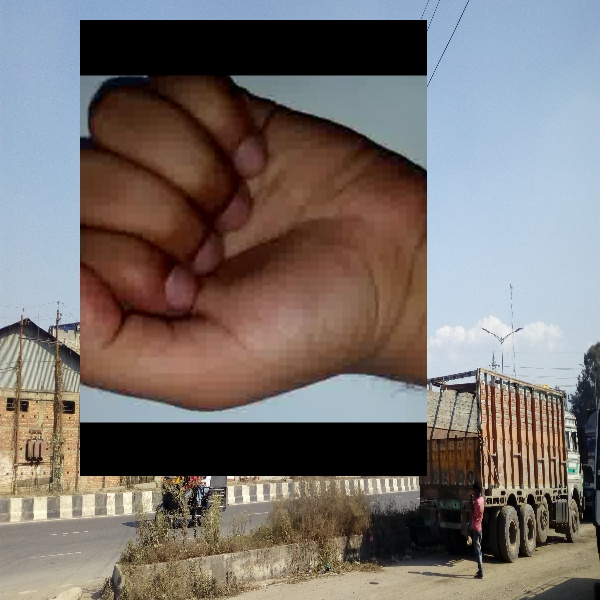A: (80, 20, 427, 476)
